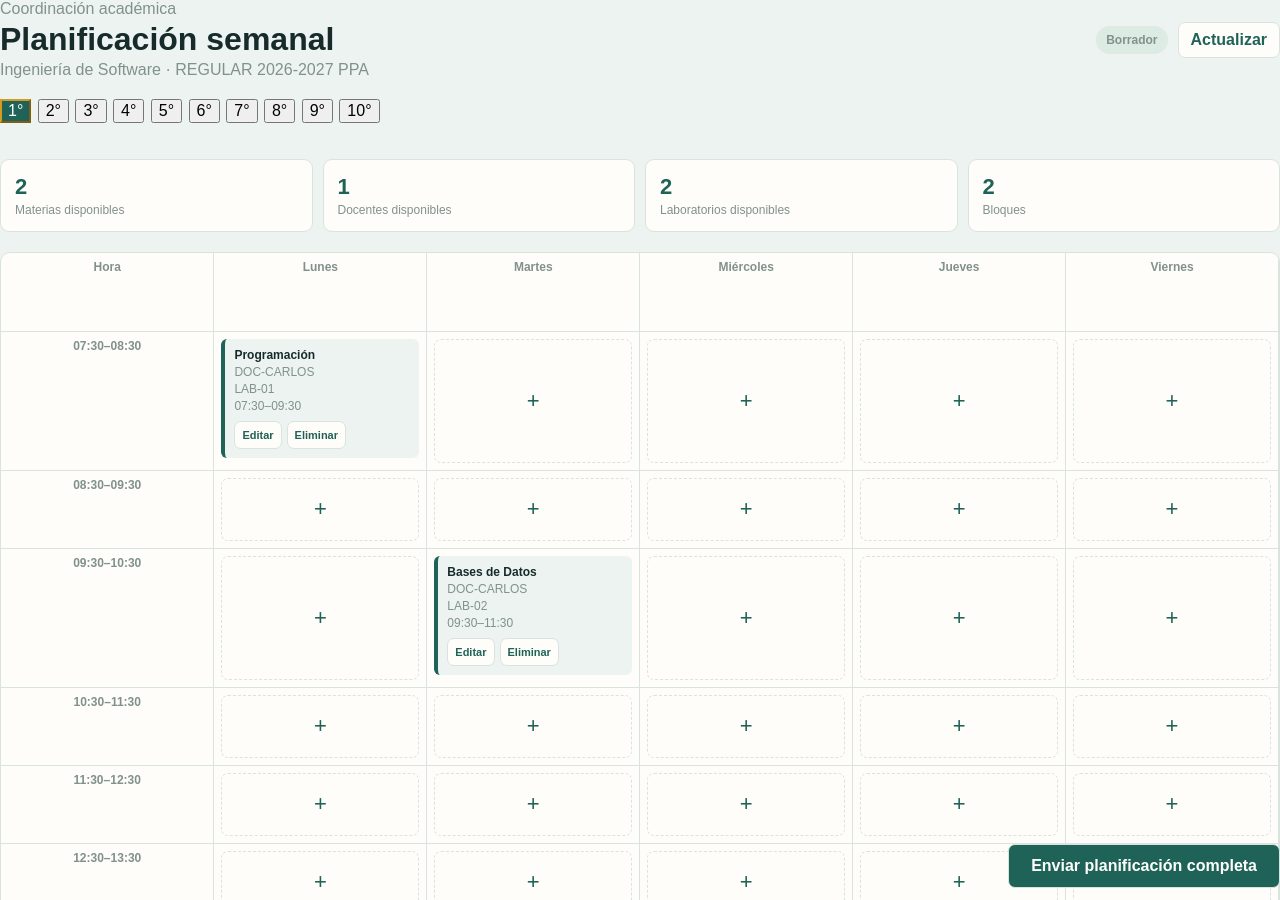
Test: CoordinadorPlanificacion › muestra un conflicto humano sin guardar
Expected: the text "Programación" is shown, [234,348,315,362]
Click the button named "Agregar LUNES 08:30". click: click(320, 509)
box: [221,478,419,540]
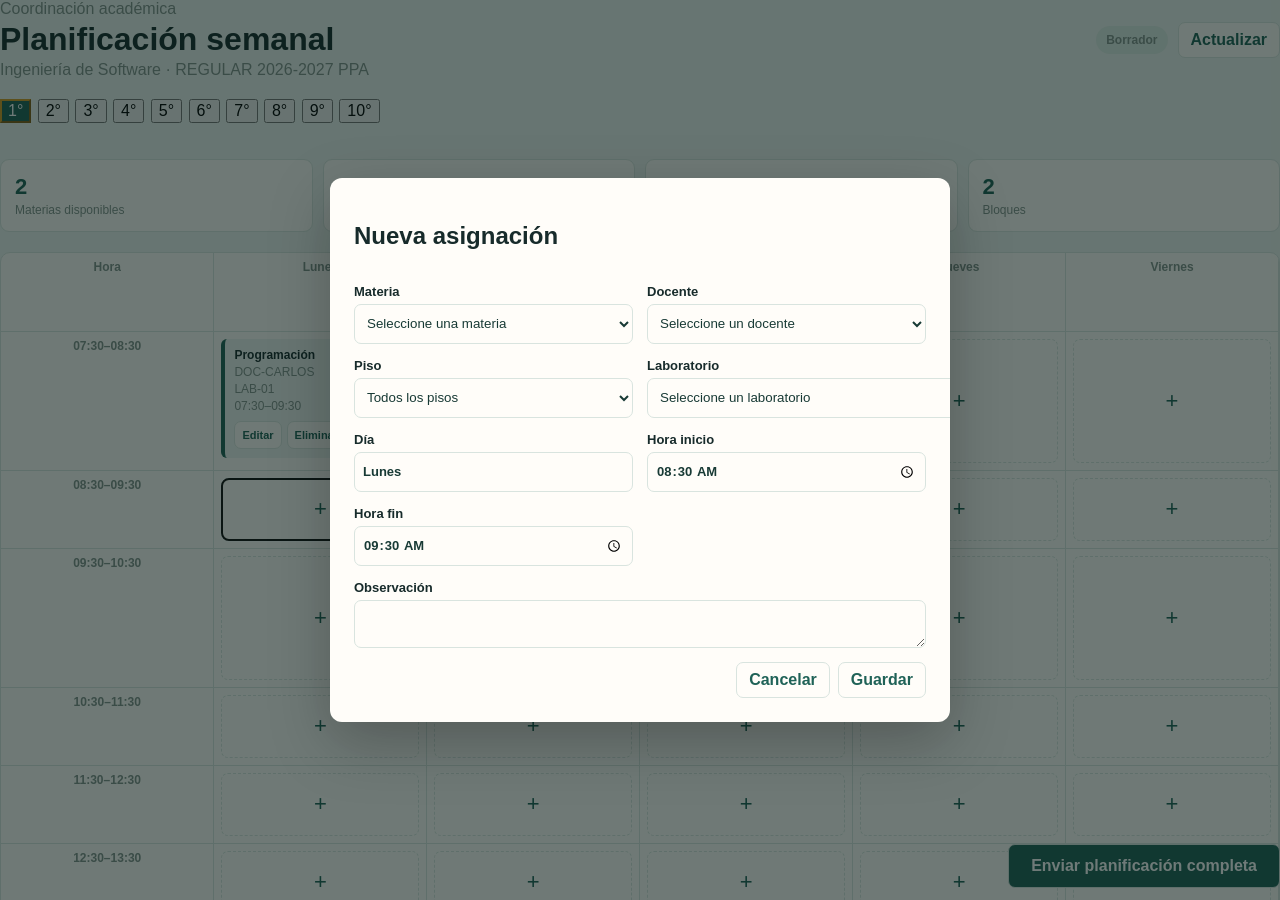
Select "BDD — Bases de Datos" in the dropdown labelled "Materia". click: (494, 324)
box: [354,304,633,344]
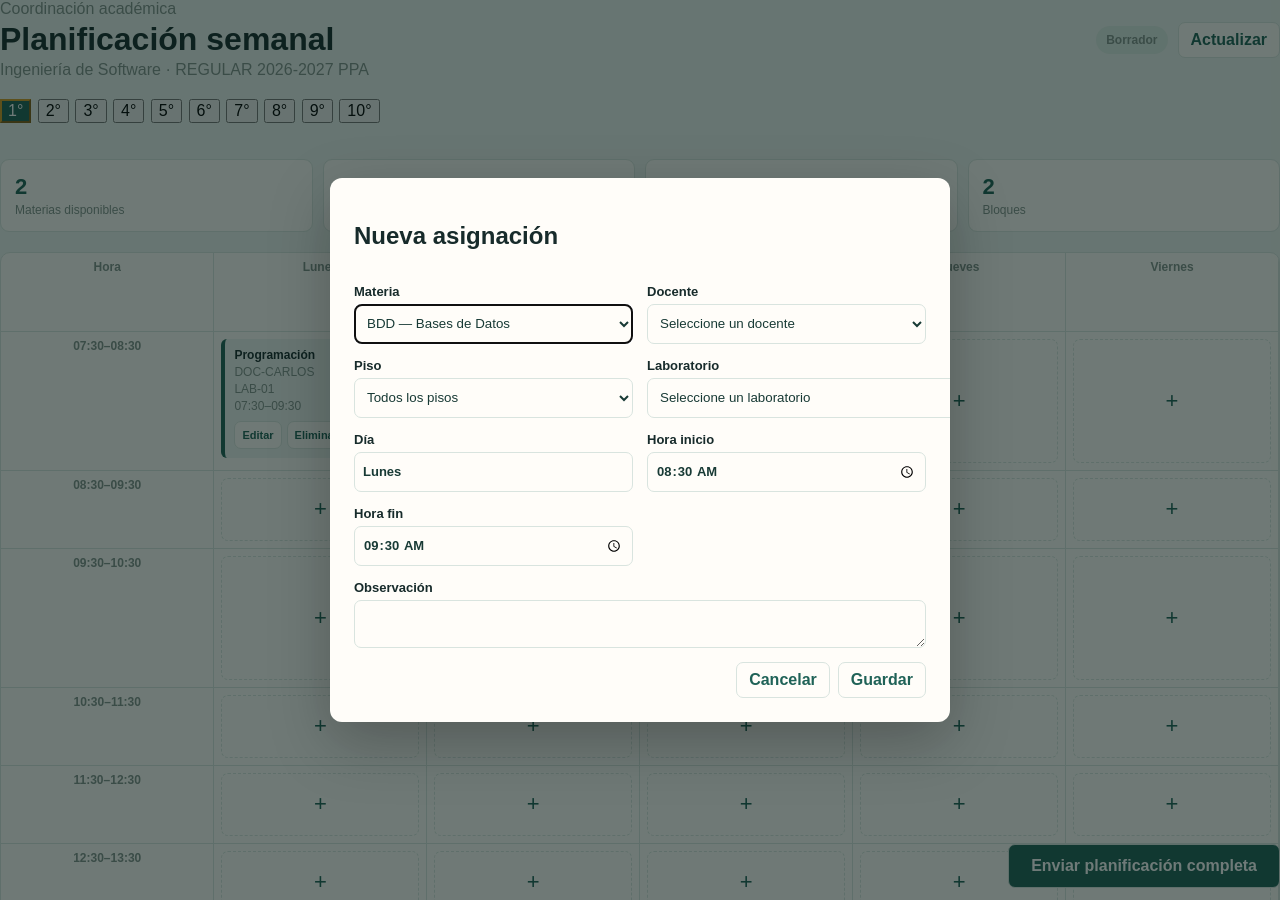
Select "DOC-CARLOS — DISPONIBLE" in the dropdown labelled "Docente". click: (786, 324)
box: [647,304,926,344]
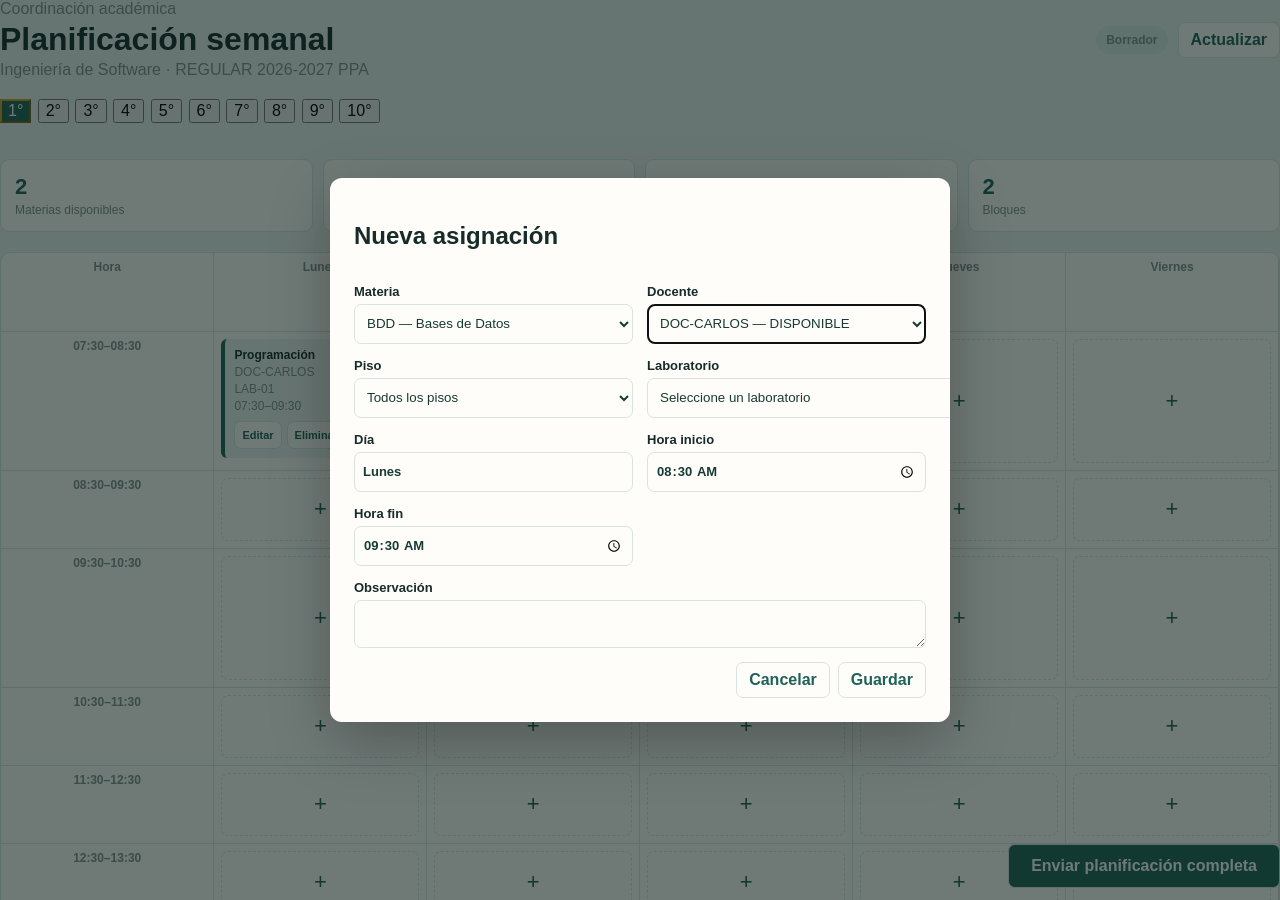
Select "LAB-01 — Laboratorio de Software · Capacidad 30 — DISPONIBLE" in the dropdown labelled "Laboratorio". click: (888, 398)
box: [647,378,1129,418]
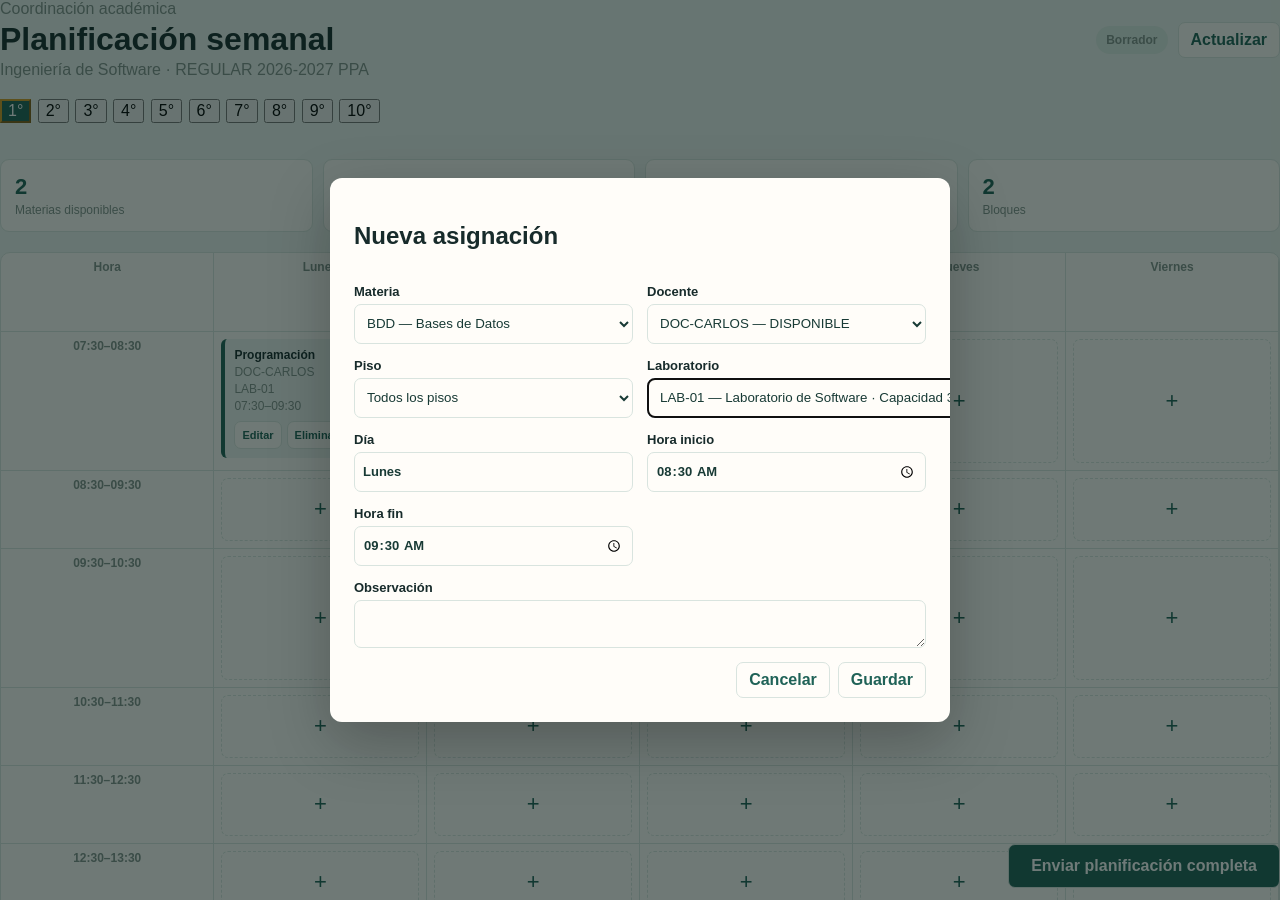
Click the button "Guardar". click: click(882, 680)
box: [838,662,926,698]
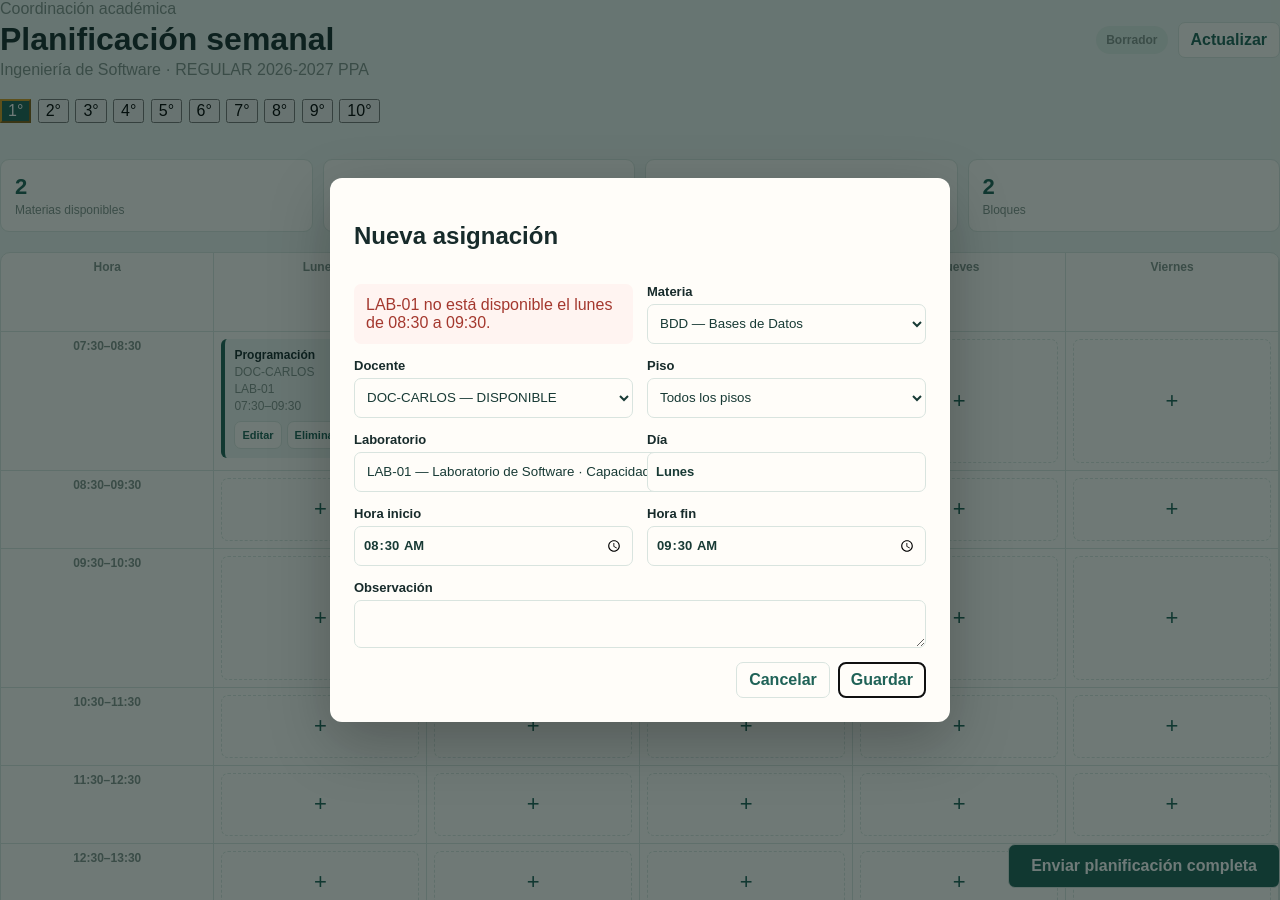
Now the message shows "LAB-01 no está disponible", box [366,296,612,331]
